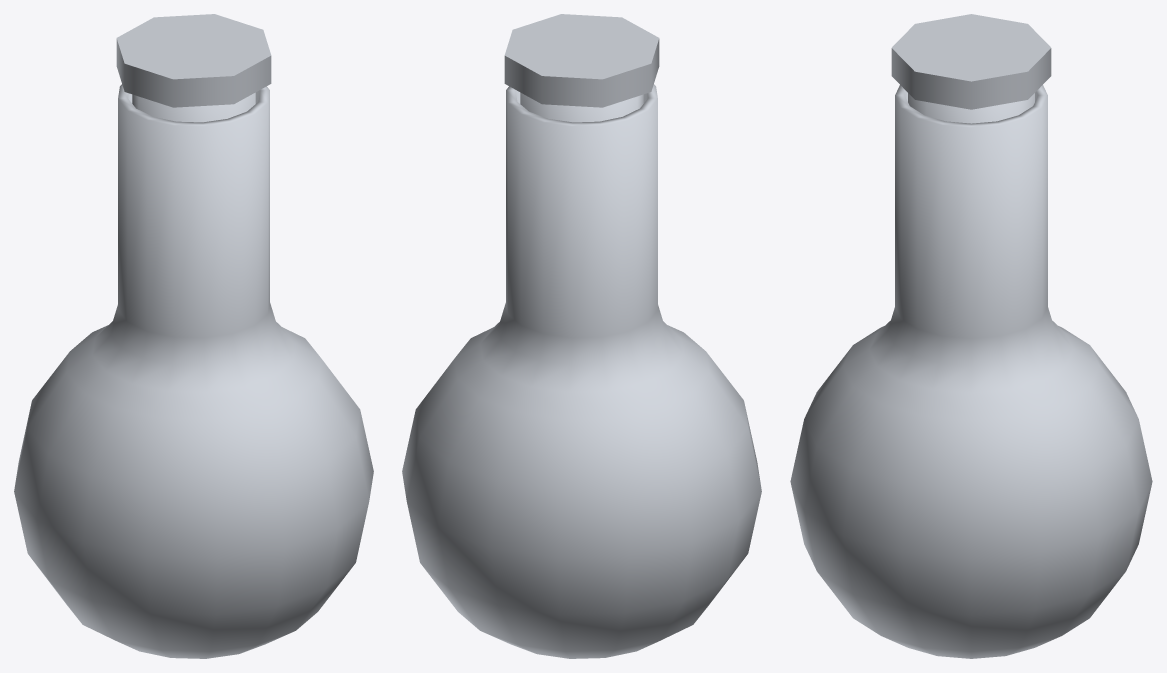
The model's file is bottle_glassware_round_bottom_flask_large.glb.
3 renders of one model, left to right at view 1: azimuth 30°, elevation 25°; view 2: azimuth 150°, elevation 25°; view 3: azimuth 270°, elevation 25°, orthographic.
Visible parts, largest first — view 1: bottle_glassware_round_bottom_flask_large, bottle_glassware_round_bottom_flask_large_cap; view 2: bottle_glassware_round_bottom_flask_large, bottle_glassware_round_bottom_flask_large_cap; view 3: bottle_glassware_round_bottom_flask_large, bottle_glassware_round_bottom_flask_large_cap.
Part boxes in pixels (x1,y1,x2,y2): bottle_glassware_round_bottom_flask_large: (14,84,373,658); bottle_glassware_round_bottom_flask_large_cap: (116,14,271,122); bottle_glassware_round_bottom_flask_large: (402,84,761,658); bottle_glassware_round_bottom_flask_large_cap: (504,14,659,122); bottle_glassware_round_bottom_flask_large: (790,85,1152,658); bottle_glassware_round_bottom_flask_large_cap: (891,14,1051,123).
Bounding box in the file's own units: 14.77 × 26.39 × 14.77.
Materials: 1 (1 with a texture image).
